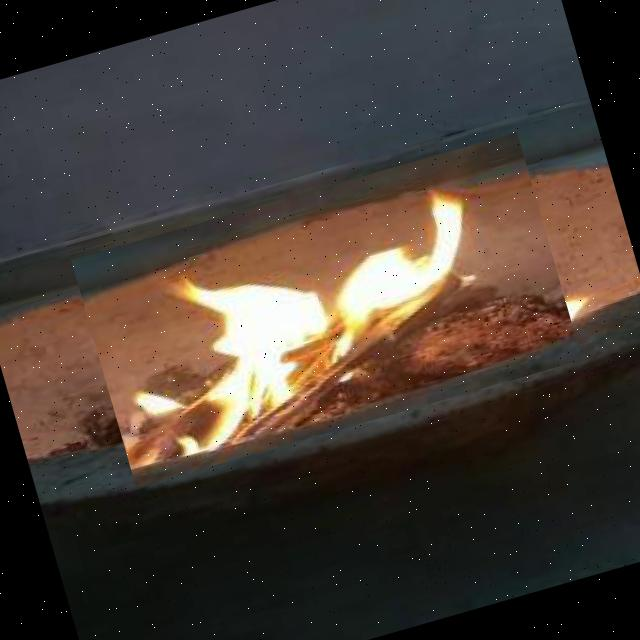fire: (71, 132, 582, 488)
